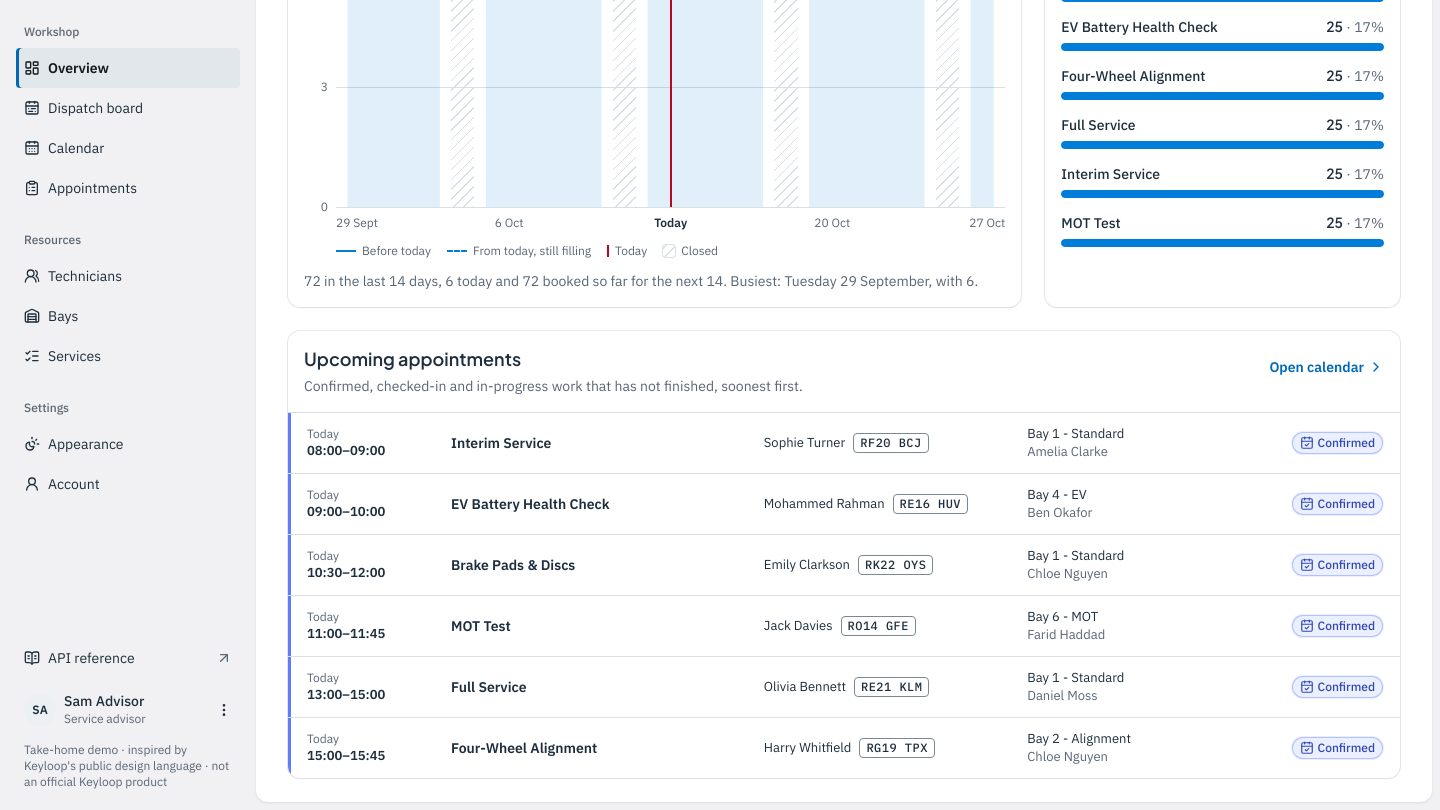
Test: the details on the Overview › names the technician asked for, with their HV level, from the appointment's day
(page scrolled)
What coordinates should you click on to do the following:
click the button with aria-label "Today, Interim Service, Bay 1 - Standard, 08:00 to 09:00"
I would click on:
 (844, 442)
Its box is top-left (288, 412), bottom-right (1400, 472).
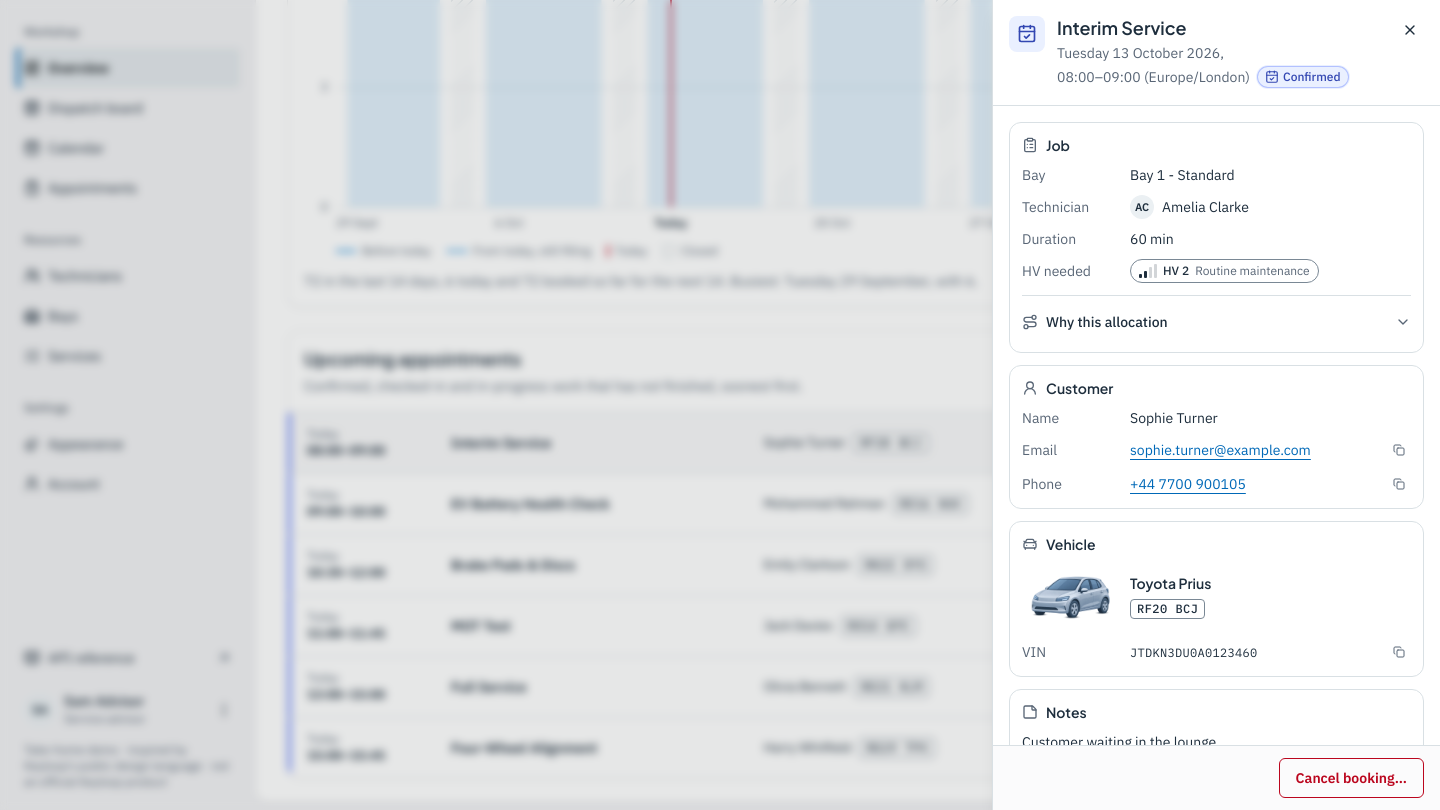
What coordinates should you click on to do the following:
click the button "Why this allocation"
I would click on:
 (1107, 322)
Its box is top-left (1016, 304), bottom-right (1417, 340).
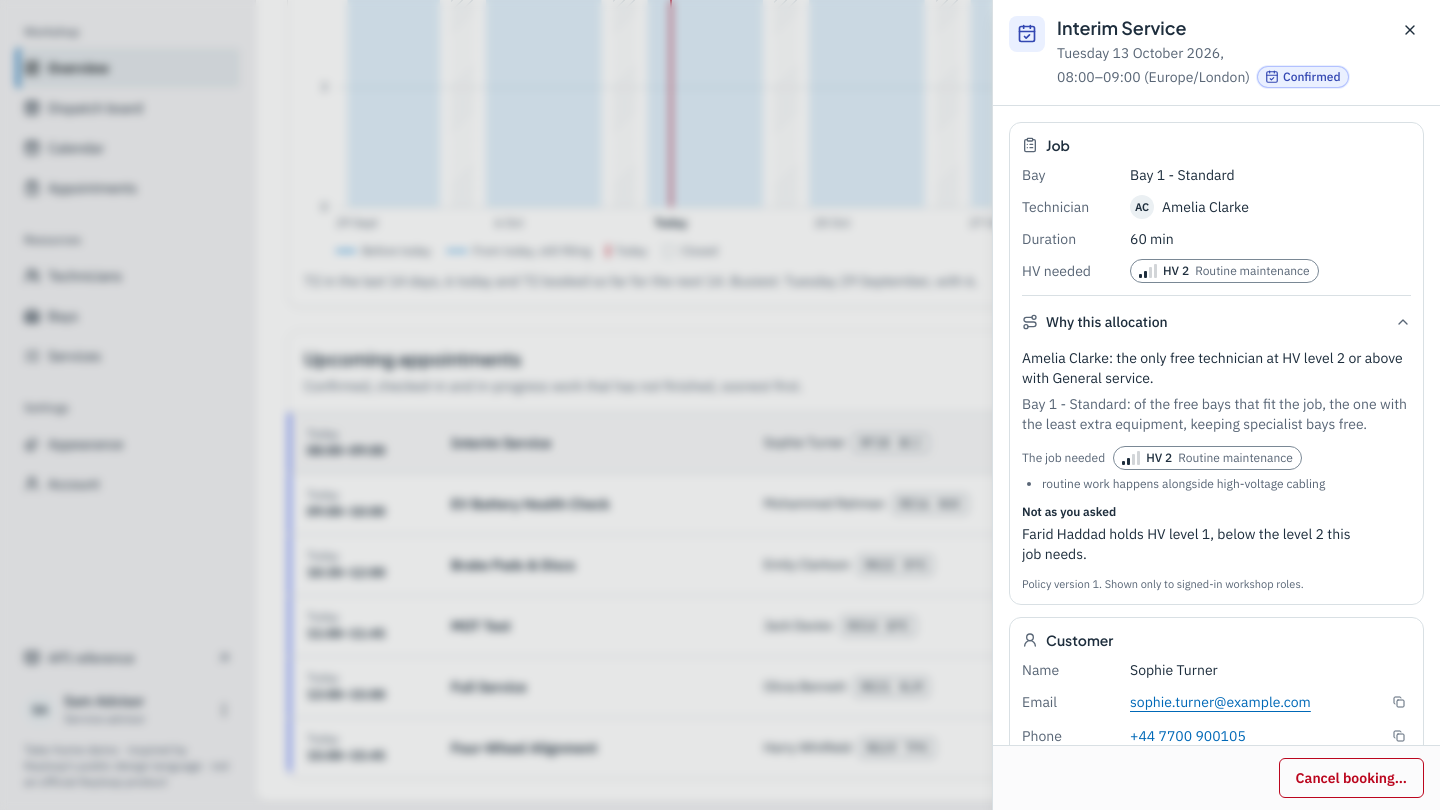
Now the list item "Farid Haddad holds HV level 1, below the level 2 this job needs." is shown, box top-left (1022, 525), bottom-right (1350, 563)
